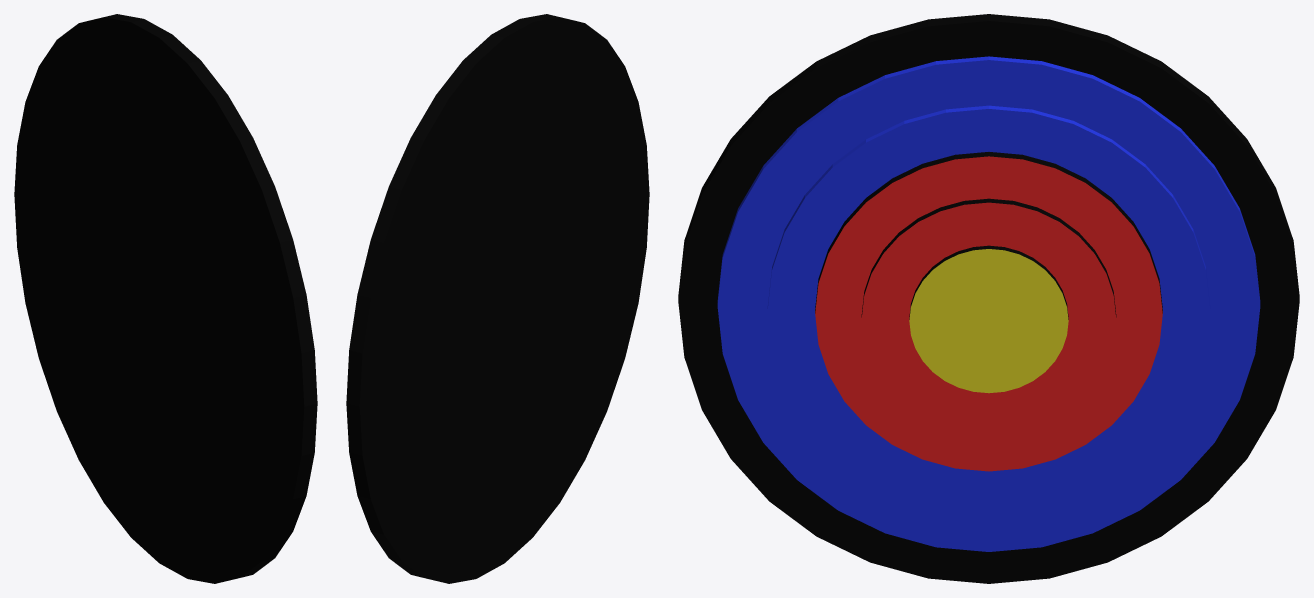
The model's file is alvo 1.fbx.
3 views of the same model, side by side, from view 1: azimuth 30°, elevation 25°; view 2: azimuth 150°, elevation 25°; view 3: azimuth 270°, elevation 25° (orthographic). The views are drawn at different scales.
Visible parts, largest first — view 1: Cilindro; view 2: Cilindro; view 3: Cilindro.003, Cilindro, Cilindro.002, Cilindro.001.
Part boxes in pixels (<box>): Cilindro: <box>14,14,317,583</box>; Cilindro: <box>346,14,649,583</box>; Cilindro.003: <box>717,60,1260,551</box>; Cilindro: <box>678,14,1299,583</box>; Cilindro.002: <box>815,156,1162,471</box>; Cilindro.001: <box>909,249,1068,393</box>.
Size of the model in its own units: 6.34 by 65.18 by 65.18.
